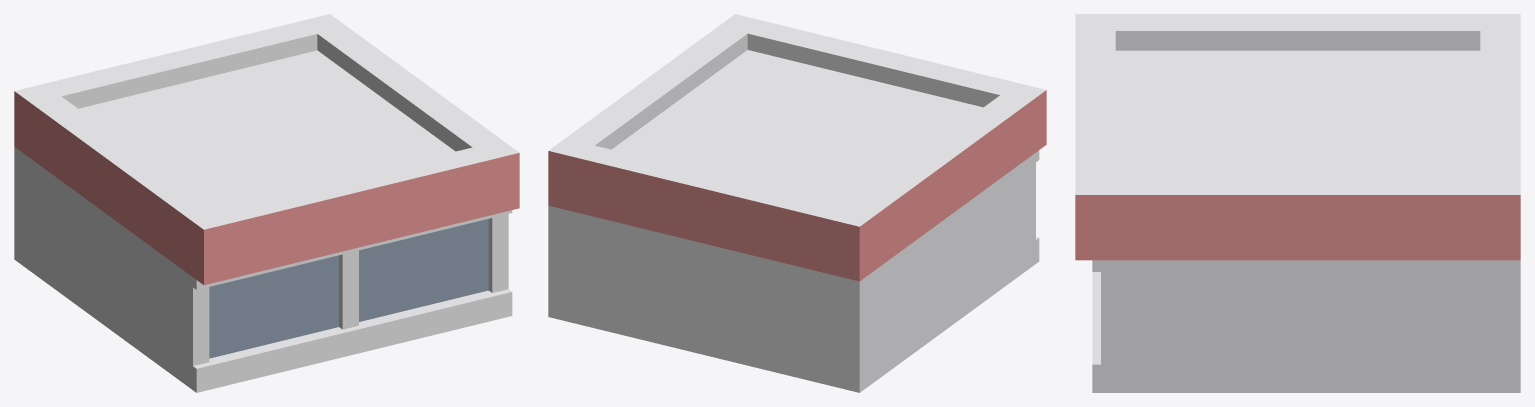
Rendered from pitsOffice.glb.
The picture shows the model from 3 angles, left to right: view 1: azimuth 30°, elevation 25°; view 2: azimuth 150°, elevation 25°; view 3: azimuth 270°, elevation 25°; orthographic projection. The views are drawn at different scales.
Visible parts, largest first — view 1: pitsOffice; view 2: pitsOffice; view 3: pitsOffice.
Part boxes in pixels (x1,y1,x2,y2): pitsOffice: (14,14,519,392); pitsOffice: (548,14,1046,392); pitsOffice: (1075,14,1520,392).
Size of the model in its own units: 1 by 0.51 by 1.04.
